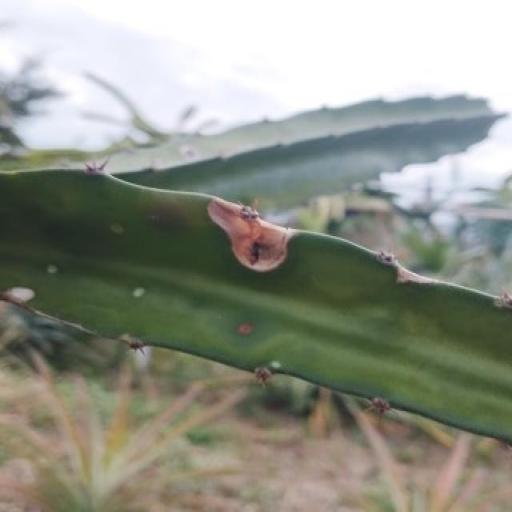stemcanker: (364, 283, 387, 309), (250, 302, 272, 326), (454, 273, 476, 297)
